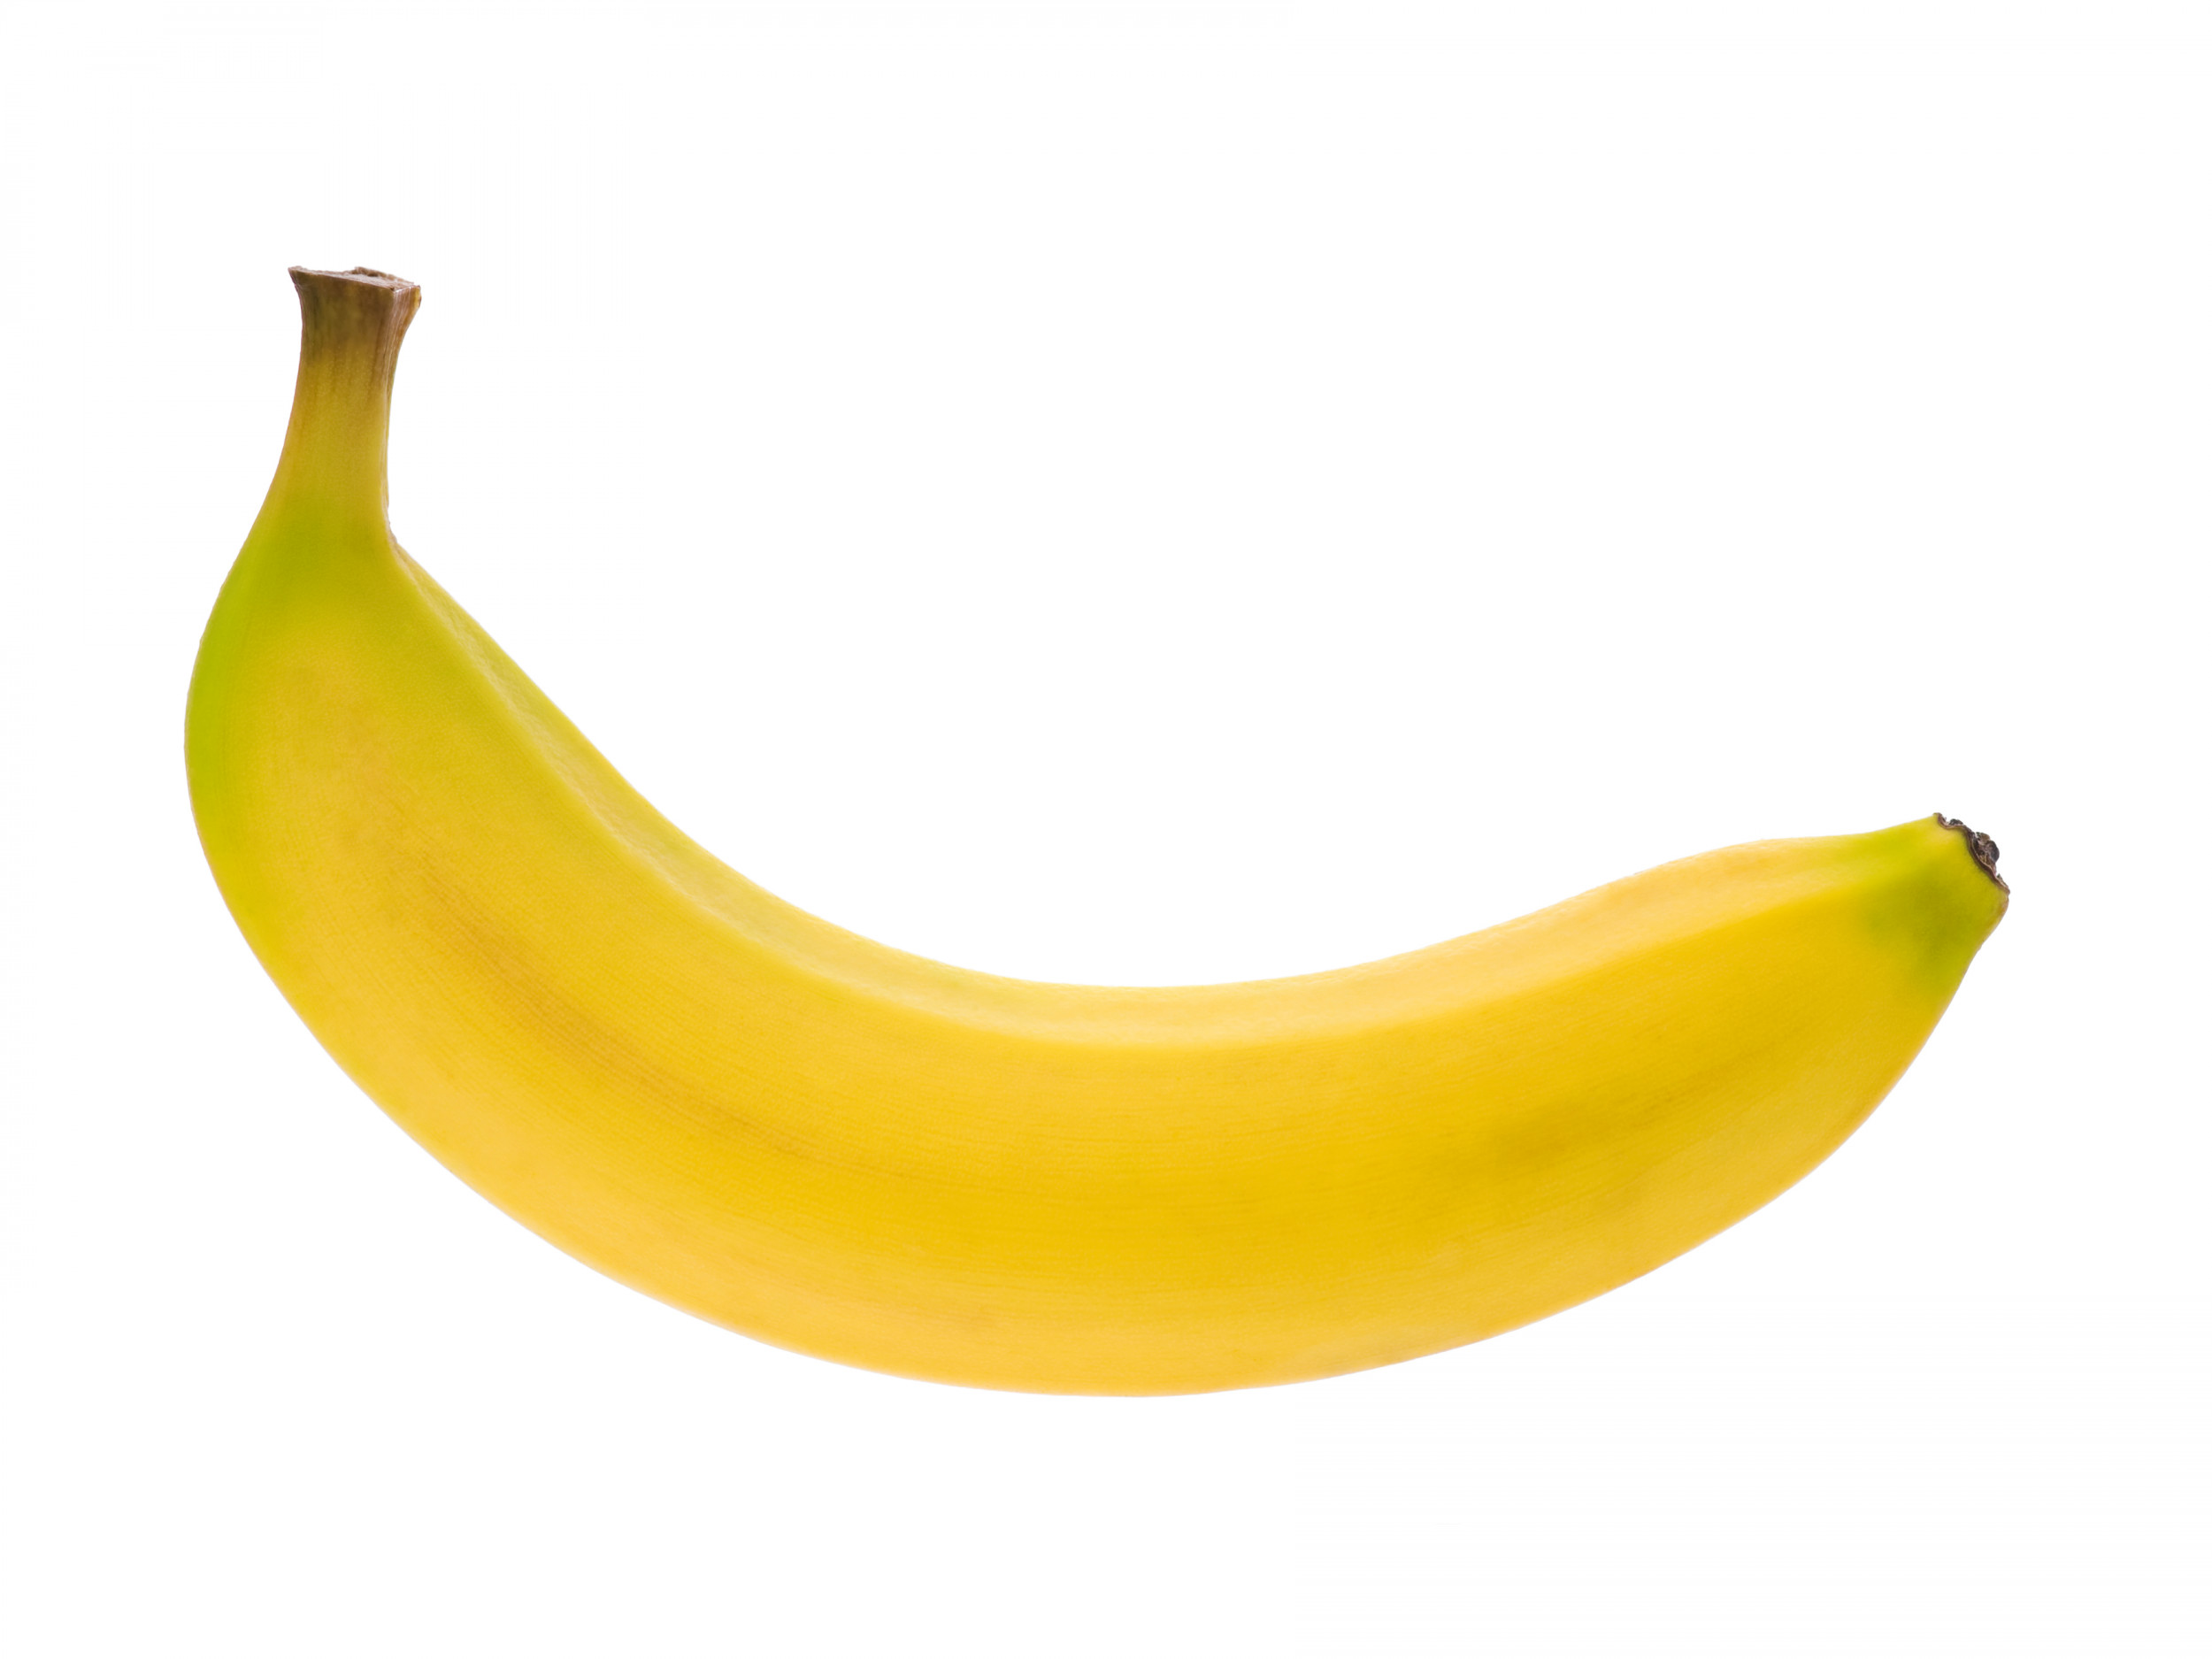banana: (172, 254, 2027, 1408)
